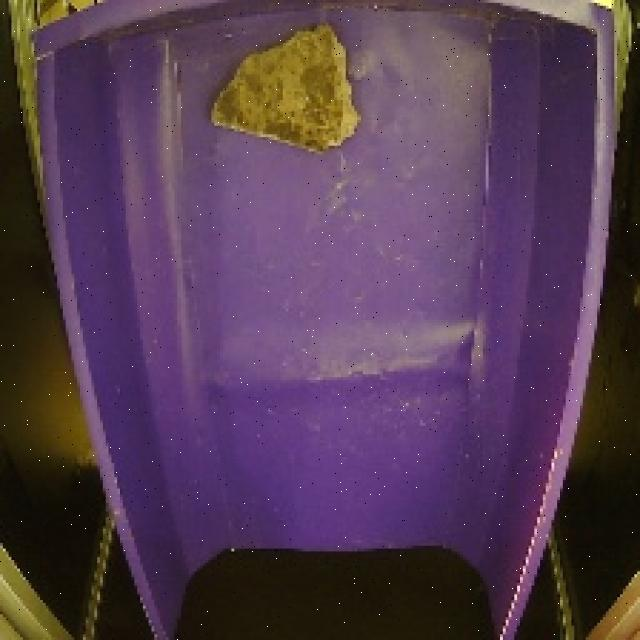china: (199, 15, 374, 164)
